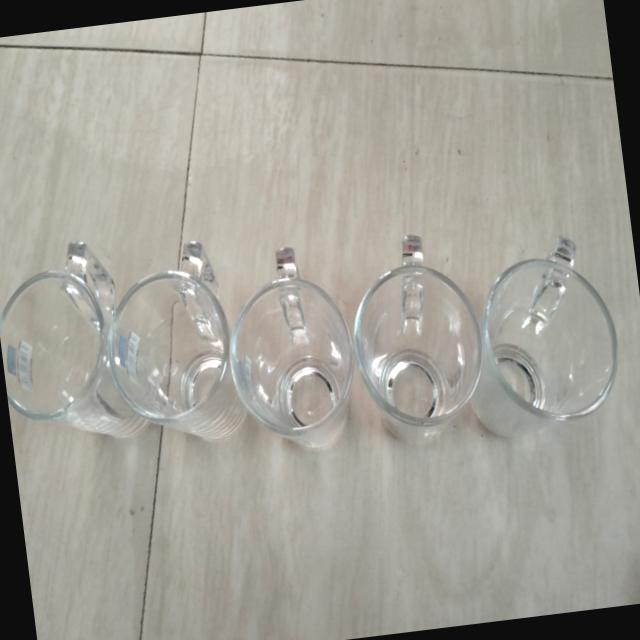glass-VX4N: (452, 235, 632, 448), (340, 226, 496, 460), (94, 239, 244, 470), (0, 234, 157, 452), (216, 244, 364, 460)
